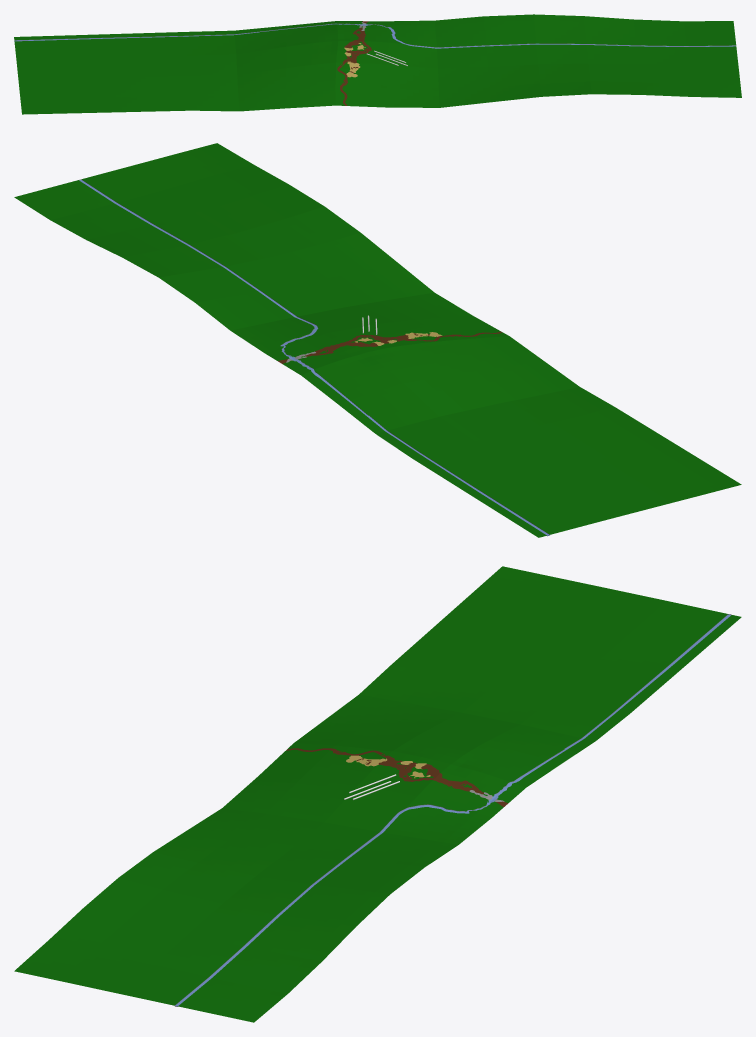
The model's file is Muddy path.fbx.
3 views of the same model, one above another, from view 1: azimuth 30°, elevation 25°; view 2: azimuth 150°, elevation 25°; view 3: azimuth 270°, elevation 25° (orthographic). The views are drawn at different scales.
Visible parts, largest first — view 1: base, water placeholder; view 2: base, water placeholder; view 3: base, water placeholder.
Boxes of the visible parts, <box> form: base: <box>14,14,741,114</box>; water placeholder: <box>14,23,735,48</box>; base: <box>14,143,741,537</box>; water placeholder: <box>79,180,549,536</box>; base: <box>14,566,741,1022</box>; water placeholder: <box>175,614,730,1006</box>.
Size of the model in its own units: 6322 by 165 by 4246.
